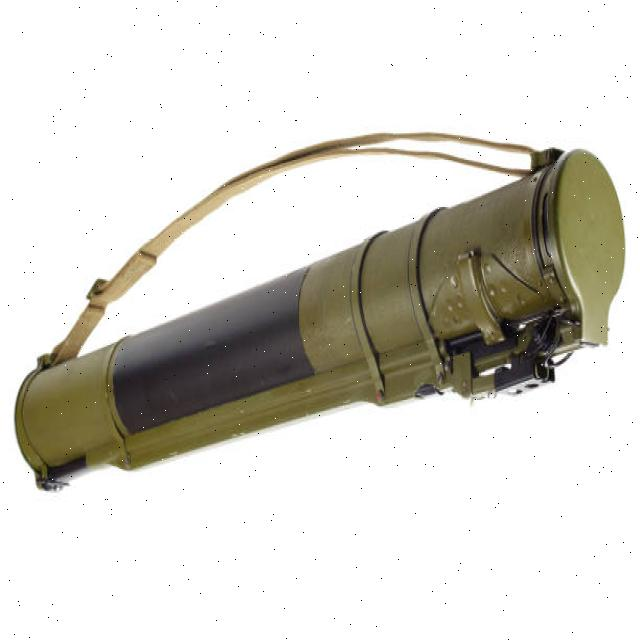bazooka: (2, 128, 628, 504)
